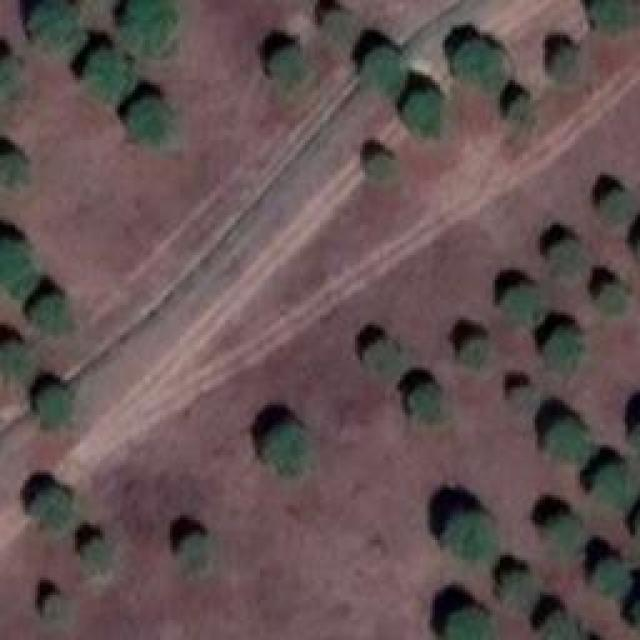Tree: (125, 0, 180, 55), (355, 45, 410, 98), (455, 38, 508, 91), (33, 0, 86, 48), (83, 48, 133, 98), (25, 482, 75, 530), (0, 235, 38, 298), (30, 293, 75, 346), (268, 420, 313, 473), (400, 90, 448, 138), (448, 510, 493, 560), (587, 0, 640, 37), (265, 48, 308, 93), (540, 418, 585, 461), (0, 337, 38, 385), (595, 462, 633, 510), (367, 338, 405, 381), (540, 328, 580, 368), (35, 385, 73, 425), (130, 98, 168, 138), (500, 287, 540, 325), (447, 607, 492, 640), (542, 512, 580, 550), (550, 45, 583, 85), (318, 10, 353, 45), (0, 150, 30, 190), (543, 240, 583, 270), (593, 555, 626, 590), (605, 188, 638, 223), (507, 95, 535, 135), (503, 573, 533, 608), (538, 615, 578, 640), (178, 535, 208, 568), (460, 338, 490, 371), (410, 383, 438, 416), (365, 152, 395, 180), (83, 535, 106, 570), (0, 55, 20, 95), (597, 280, 625, 308), (43, 592, 68, 620), (510, 385, 530, 405)
